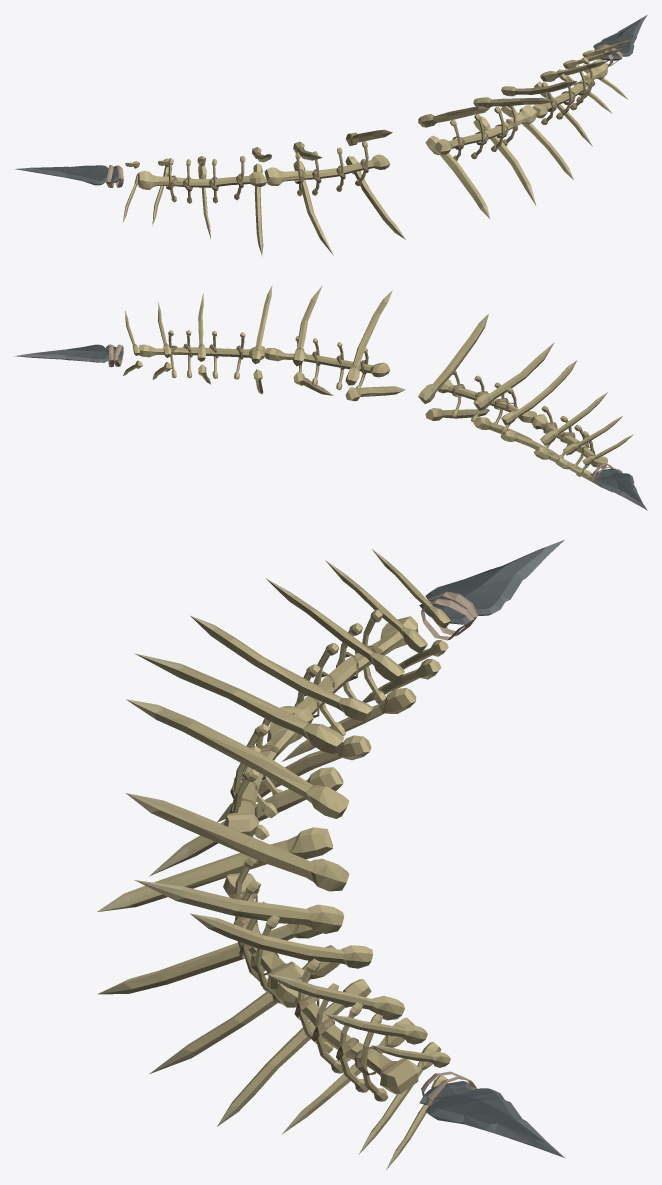
File: repeatingCrossbowTribeTip.glb
The picture shows the model from 3 angles, top to bottom: view 1: azimuth 30°, elevation 25°; view 2: azimuth 150°, elevation 25°; view 3: azimuth 270°, elevation 25°; orthographic projection. The views are drawn at different scales.
Visible parts, largest first — view 1: repeatingCrossbowTribeTip; view 2: repeatingCrossbowTribeTip; view 3: repeatingCrossbowTribeTip.
Boxes of the visible parts, x1=… form: repeatingCrossbowTribeTip: x1=15, y1=14, x2=647, y2=256; repeatingCrossbowTribeTip: x1=14, y1=285, x2=647, y2=510; repeatingCrossbowTribeTip: x1=97, y1=540, x2=564, y2=1169.
Bounding box in the file's own units: 1.02 × 0.1772 × 0.3278.
